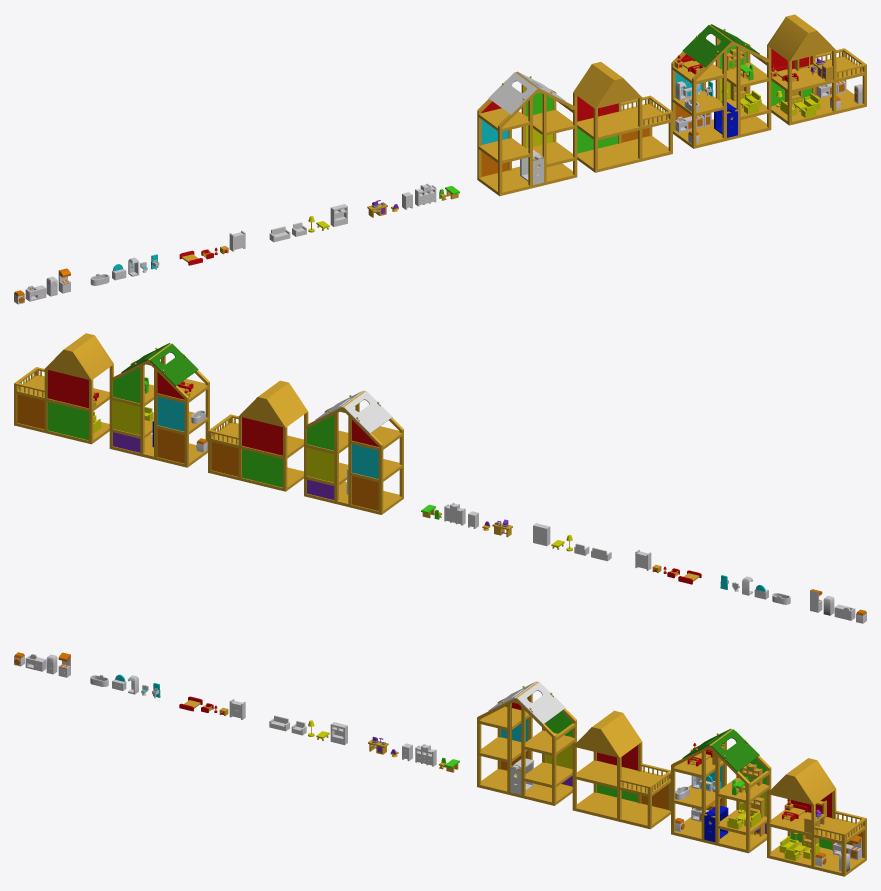
The model's file is DollsHouse.fbx.
3 views of the same model, one above another, from view 1: azimuth 30°, elevation 25°; view 2: azimuth 150°, elevation 25°; view 3: azimuth 330°, elevation 25° (orthographic).
Parts seen in each view (by area): view 1: DollsHouse_Frame_A_Full, DollsHouse_Frame_A, DollsHouse_Frame_B_Full, DollsHouse_Frame_B, DollsHouse_Roof_L; view 2: DollsHouse_Frame_A_Full, DollsHouse_Frame_A, DollsHouse_Frame_B_Full, DollsHouse_Frame_B, DollsHouse_Roof_L; view 3: DollsHouse_Frame_A_Full, DollsHouse_Frame_B_Full, DollsHouse_Frame_B, DollsHouse_Frame_A, DollsHouse_Roof_R.
Part boxes in pixels (x1,y1,x2,y2): DollsHouse_Frame_A_Full: (671,24,771,148); DollsHouse_Frame_A: (477,72,577,196); DollsHouse_Frame_B_Full: (767,14,866,125); DollsHouse_Frame_B: (573,62,672,172); DollsHouse_Roof_L: (488,72,537,114); DollsHouse_Frame_A_Full: (109,343,209,467); DollsHouse_Frame_A: (304,391,403,514); DollsHouse_Frame_B_Full: (14,333,113,444); DollsHouse_Frame_B: (208,380,308,491); DollsHouse_Roof_L: (344,391,392,433); DollsHouse_Frame_A_Full: (671,728,771,853); DollsHouse_Frame_B_Full: (767,758,866,876); DollsHouse_Frame_B: (572,710,670,829); DollsHouse_Frame_A: (477,681,576,805); DollsHouse_Roof_R: (517,682,565,724).
Bounding box in the file's own units: 605 × 67.97 × 29.72.
